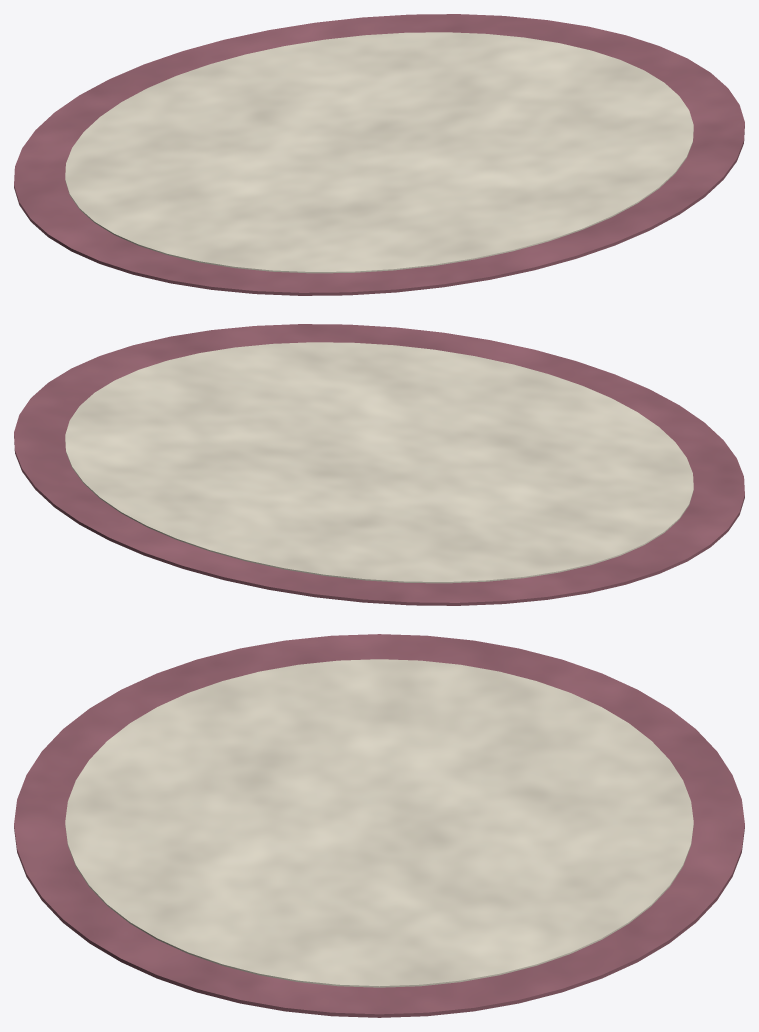
Rendered from Furn_DecorRug.fbx.
The picture shows the model from 3 angles, top to bottom: view 1: azimuth 30°, elevation 25°; view 2: azimuth 150°, elevation 25°; view 3: azimuth 270°, elevation 25°; orthographic projection. The views are drawn at different scales.
Parts seen in each view (by area): view 1: Furn_DecorRug_Mesh; view 2: Furn_DecorRug_Mesh; view 3: Furn_DecorRug_Mesh.
Part boxes in pixels (x1=…): Furn_DecorRug_Mesh: x1=14, y1=14, x2=744, y2=295; Furn_DecorRug_Mesh: x1=14, y1=324, x2=744, y2=605; Furn_DecorRug_Mesh: x1=14, y1=634, x2=744, y2=1017.
Size of the model in its own units: 1.6 by 0.01 by 1.3.
2 materials, 2 textured.
